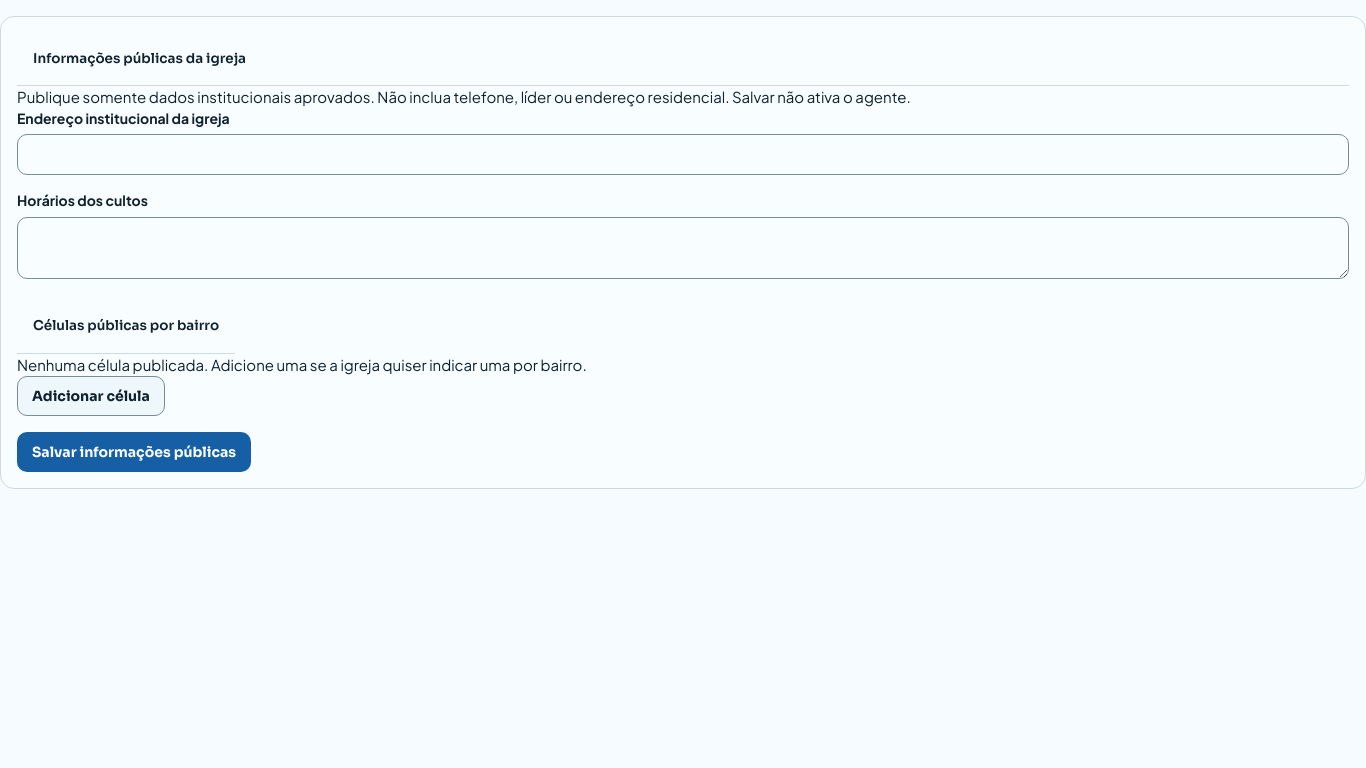
it: 409 bloqueia edição sem criar configuração nem ativar o agente
What coordinates should you click on to do the following:
click the button "Salvar informações públicas"
I would click on:
 (134, 452)
Its box is [17, 432, 251, 472].
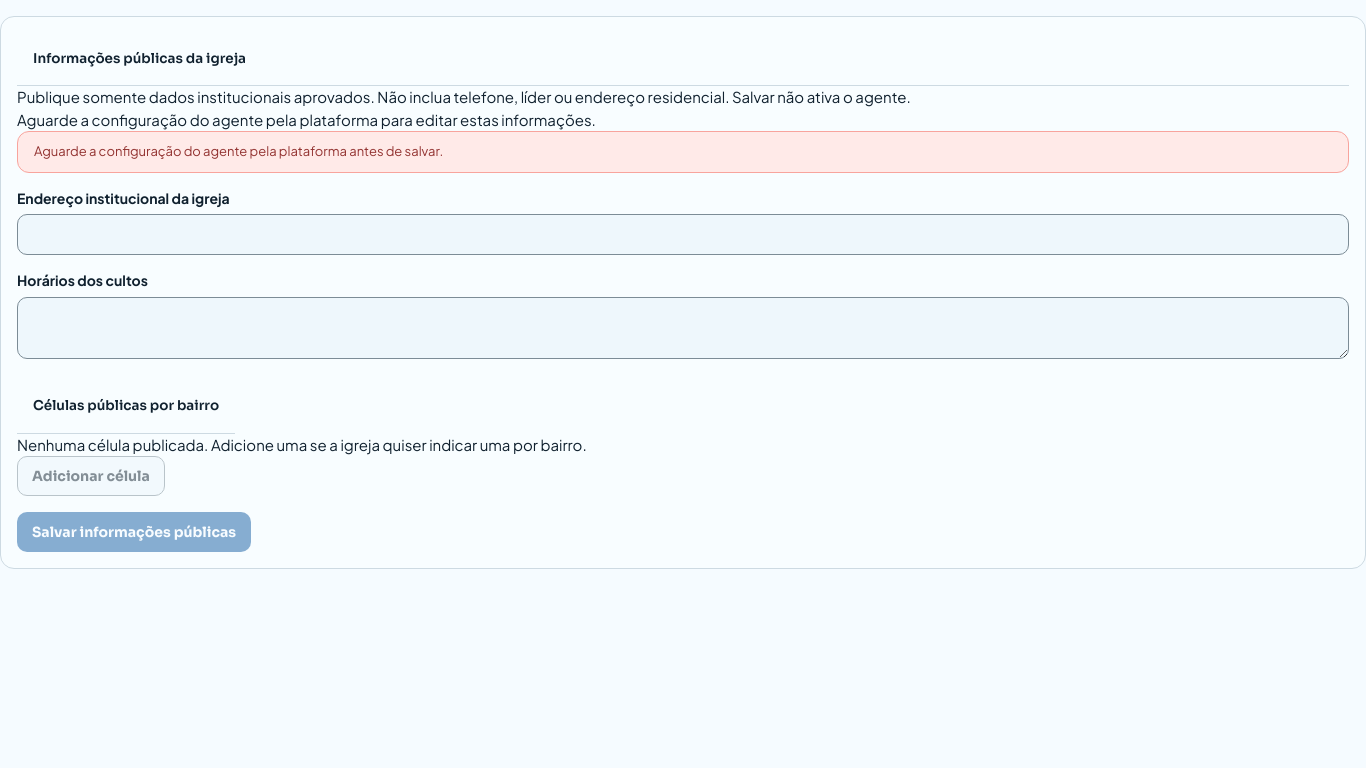
Check: the text "Aguarde a configuração do agente pela plataforma" is shown, box [17, 110, 596, 129]
Check: the button "Salvar informações públicas" is disabled, box [17, 512, 251, 552]
